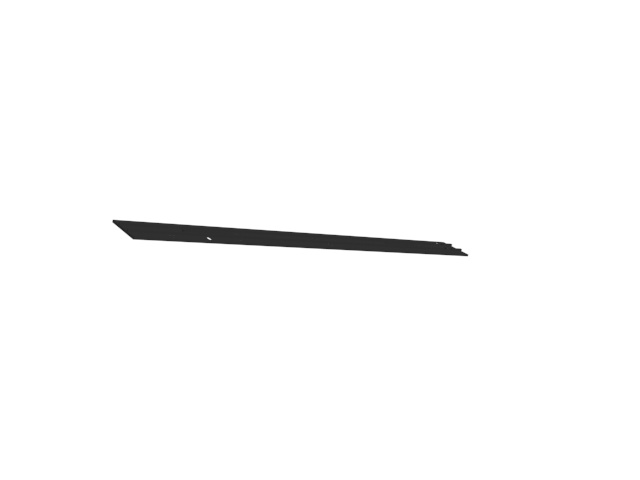ruler: (113, 217, 472, 264)
